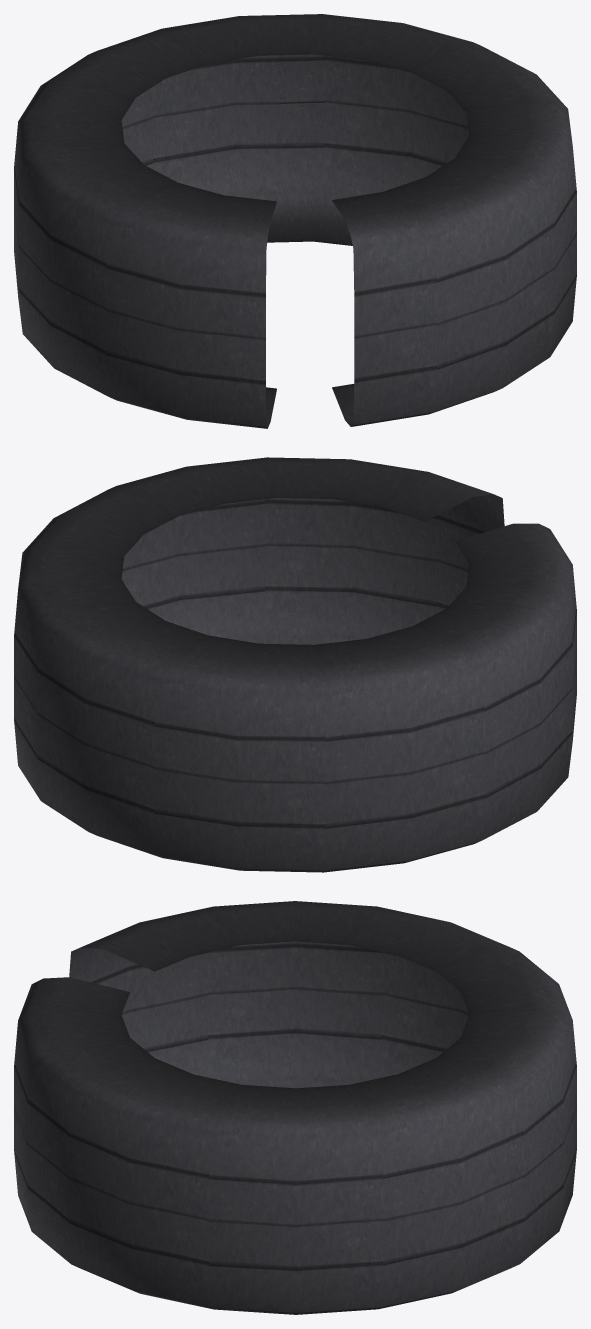
Rendered from f_tire.obj.
3 views of the same model, one above another, from view 1: azimuth 30°, elevation 25°; view 2: azimuth 150°, elevation 25°; view 3: azimuth 270°, elevation 25° (orthographic).
Visible parts, largest first — view 1: DOT_Slick_Tire; view 2: DOT_Slick_Tire; view 3: DOT_Slick_Tire.
Part boxes in pixels (<box>): DOT_Slick_Tire: <box>14,14,576,428</box>; DOT_Slick_Tire: <box>14,457,576,872</box>; DOT_Slick_Tire: <box>14,901,576,1314</box>.
Size of the model in its own units: 0.5542 by 0.2168 by 0.5542.
Materials: 1 (1 with a texture image).
